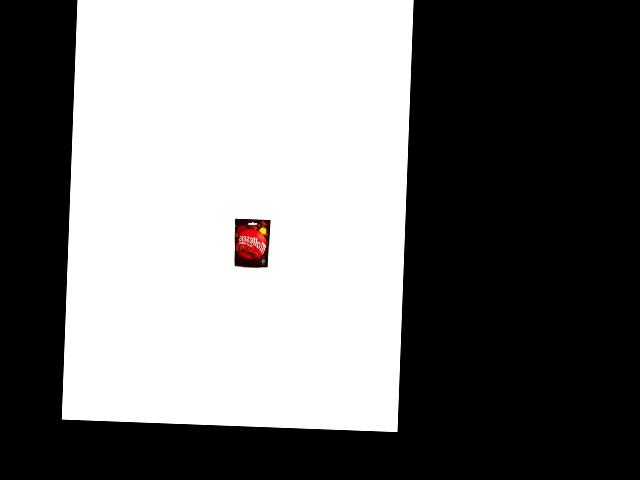chocolate: (232, 217, 270, 269)
